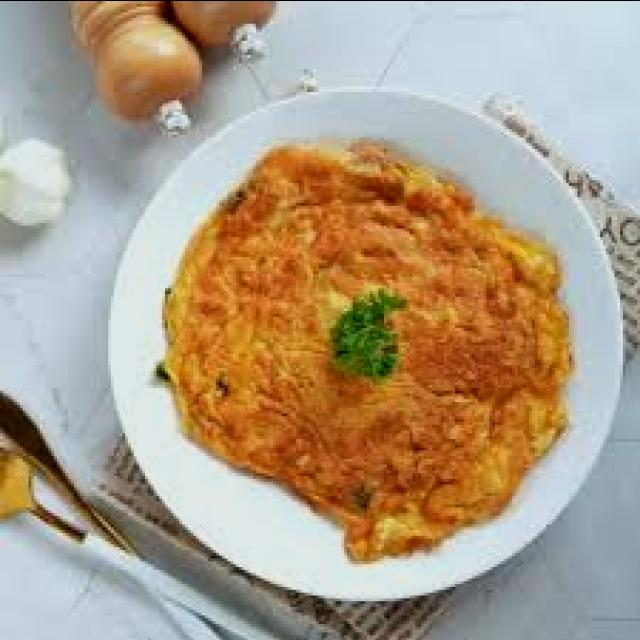telur dadar: (156, 131, 583, 563)
